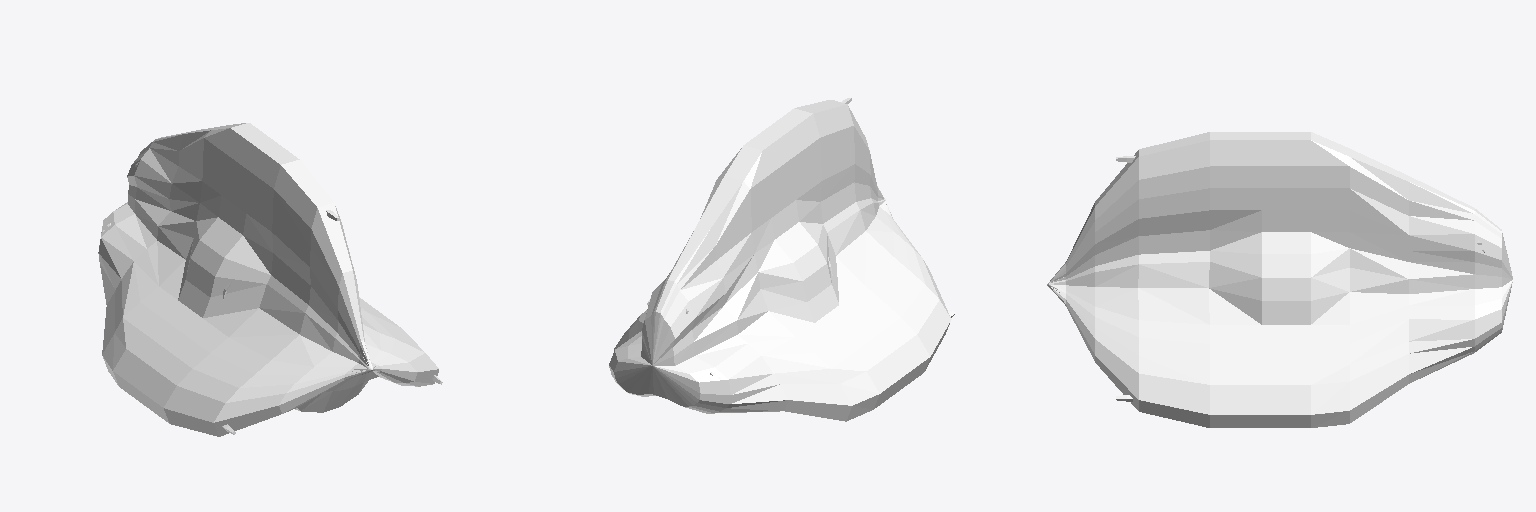
The picture shows the model from 3 angles: view 1: azimuth 30°, elevation 25°; view 2: azimuth 150°, elevation 25°; view 3: azimuth 270°, elevation 25°; orthographic projection.
Visible parts, largest first — view 1: Mesh1_B_shield; view 2: Mesh1_B_shield; view 3: Mesh1_B_shield.
Boxes of the visible parts, x1,y1,x2,y2 form: Mesh1_B_shield: [98, 123, 438, 436]; Mesh1_B_shield: [609, 100, 951, 421]; Mesh1_B_shield: [1047, 132, 1512, 427].
Bounding box in the file's own units: 62.83 × 56.49 × 99.52.